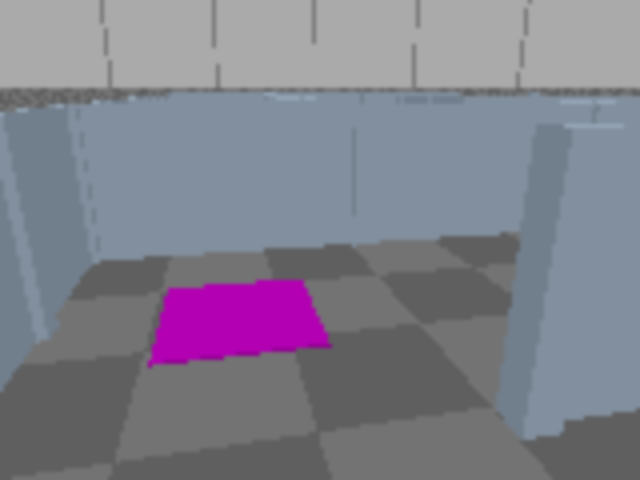goal_zone: (150, 278, 330, 366)
